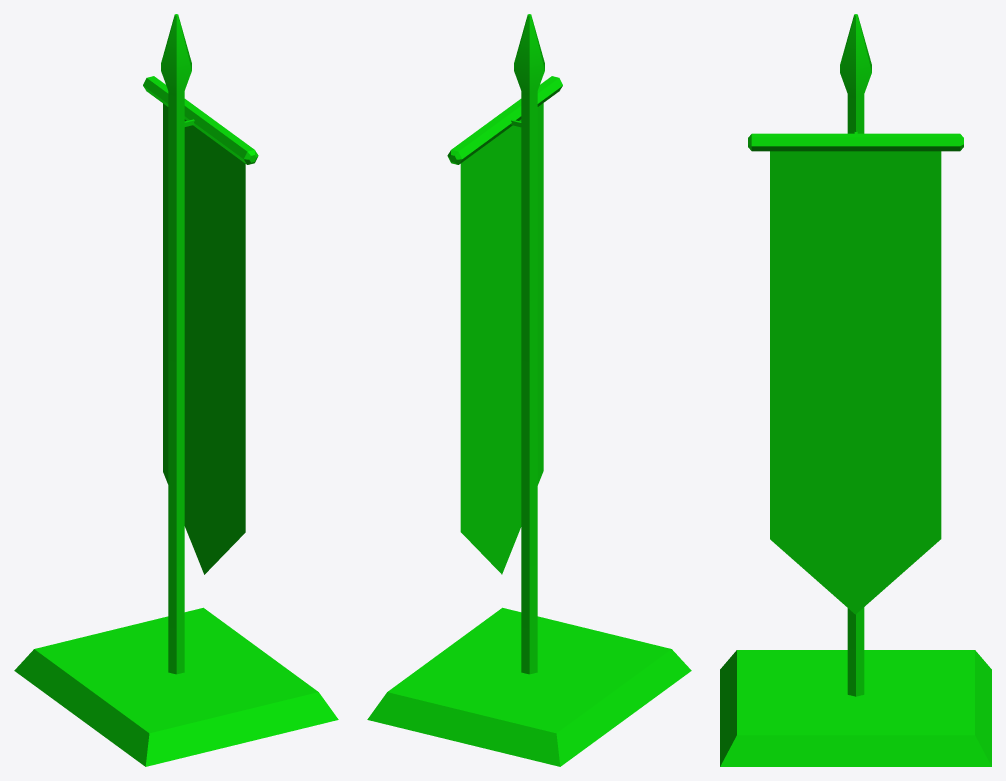
Rendered from Flags_Max.fbx.
The picture shows the model from 3 angles, left to right: view 1: azimuth 30°, elevation 25°; view 2: azimuth 150°, elevation 25°; view 3: azimuth 270°, elevation 25°; orthographic projection. The views are drawn at different scales.
Parts seen in each view (by area): view 1: Flag_1; view 2: Flag_1; view 3: Flag_1.
Boxes of the visible parts, left/top/right/bottom form: Flag_1: left=14, top=14, right=338, bottom=766; Flag_1: left=367, top=14, right=691, bottom=766; Flag_1: left=720, top=14, right=991, bottom=766.
Bounding box in the file's own units: 83.03 × 279 × 97.89.
